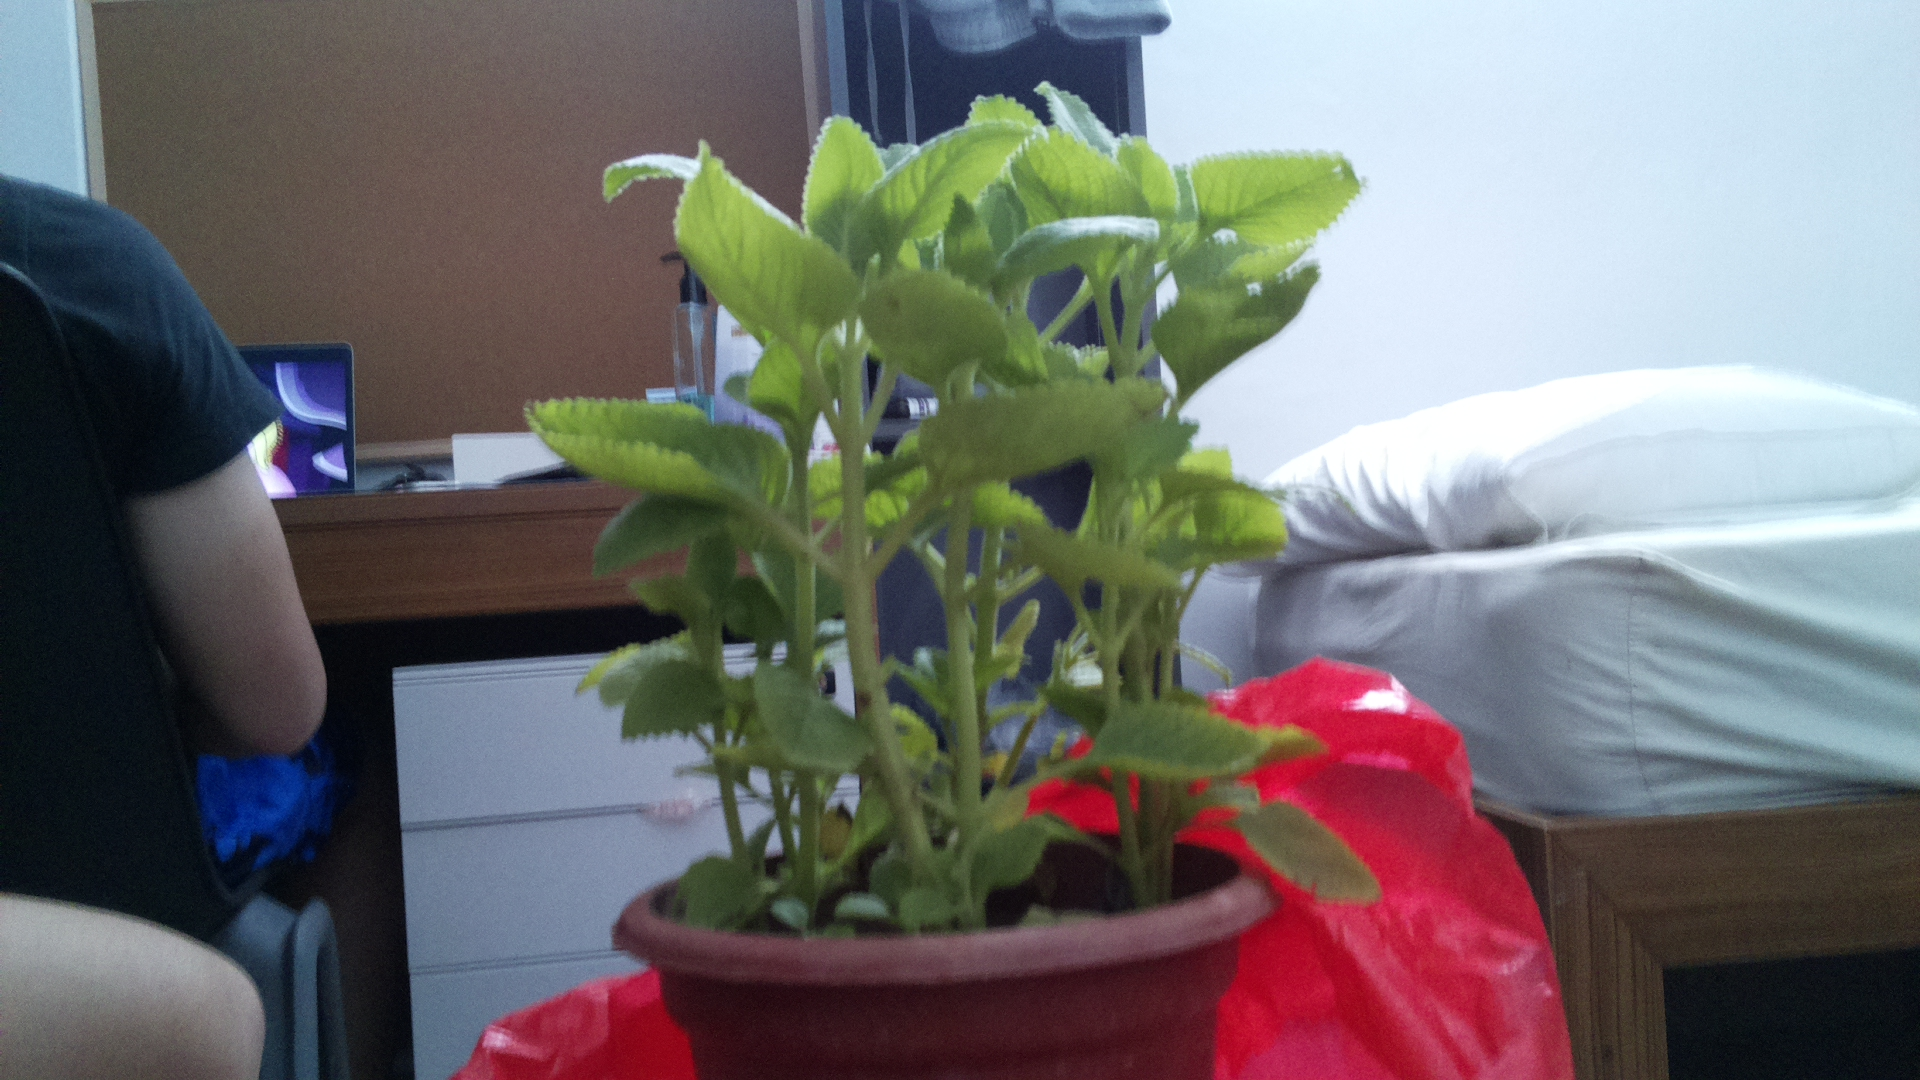leaf: (671, 135, 857, 347), (931, 373, 1179, 491), (524, 394, 777, 509), (1155, 258, 1325, 406), (880, 123, 1036, 266), (862, 255, 1004, 382), (1232, 795, 1389, 910), (1079, 702, 1325, 773), (1000, 514, 1187, 603), (988, 204, 1171, 294), (1196, 152, 1375, 243), (1013, 123, 1149, 227), (753, 670, 880, 775), (807, 103, 881, 258), (621, 661, 725, 754), (1196, 483, 1292, 570), (1039, 71, 1127, 164), (975, 804, 1055, 899), (599, 146, 705, 202)
